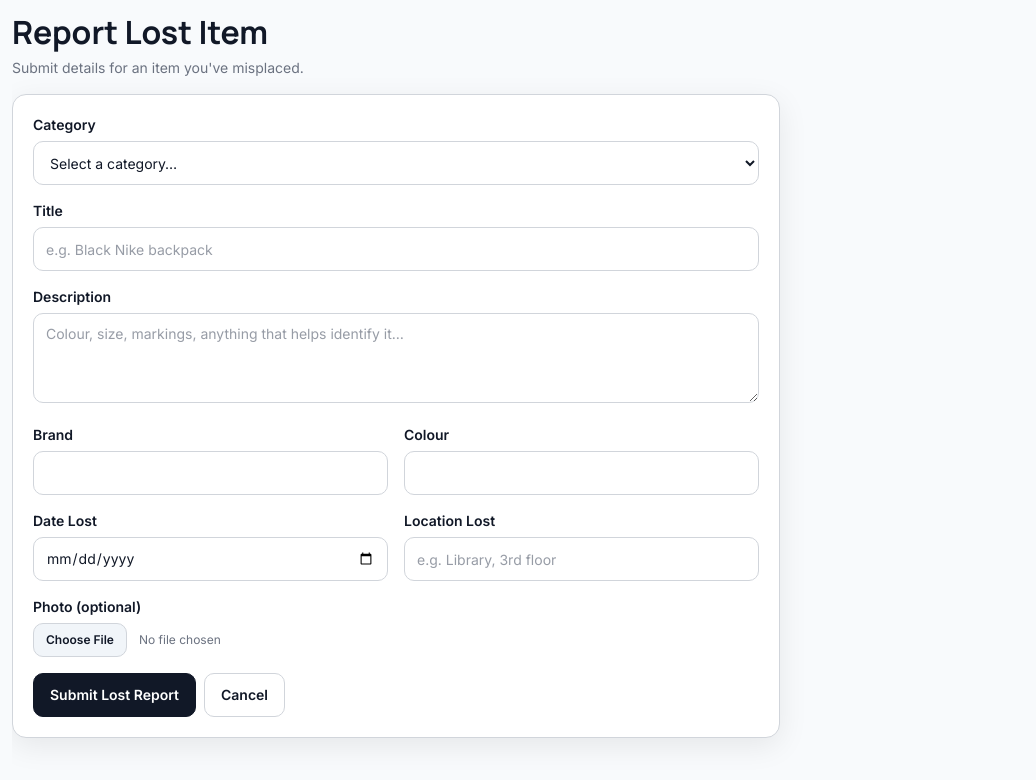
Scenario: ReportItem — lost item form › shows validation error when category is not selected
// Submit without selecting category
Click the button "Submit Lost Report" at x=114, y=695, box top-left (33, 673), bottom-right (196, 717)
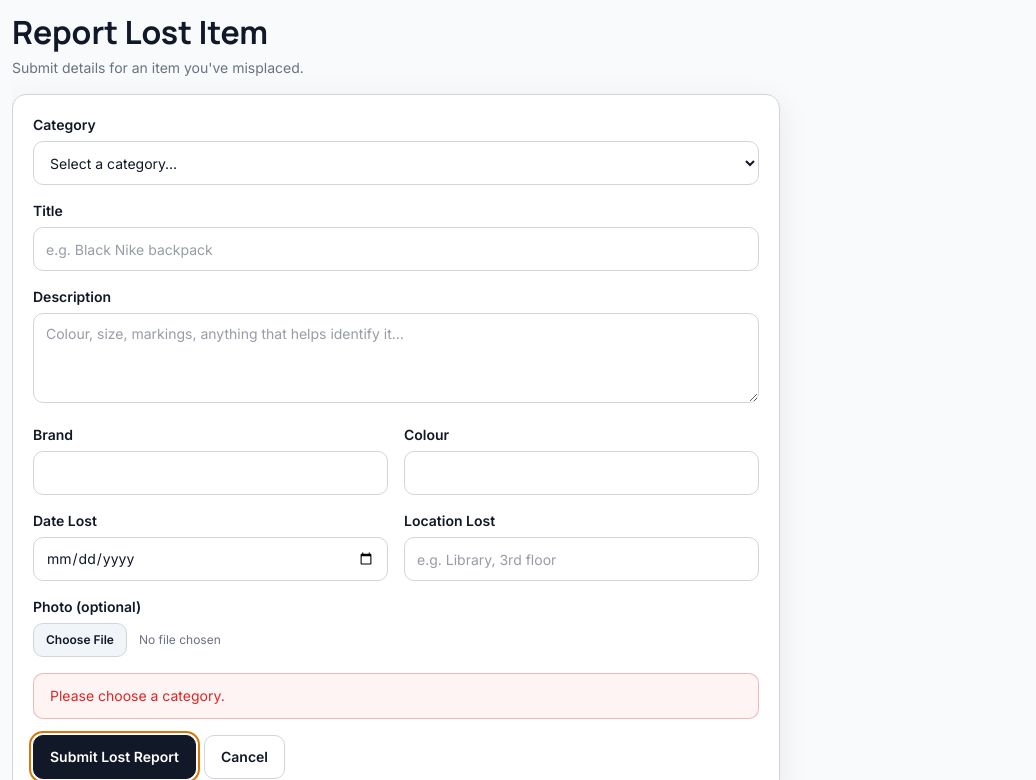
Expected: the text "Please choose a category." is shown, top-left (33, 673), bottom-right (759, 719)
